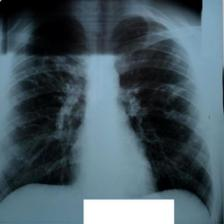tuberculosis: (2, 2, 216, 218)
